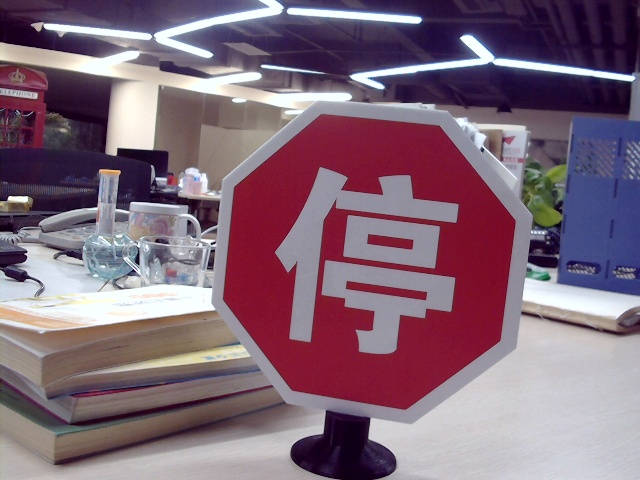stop: (278, 162, 457, 355)
